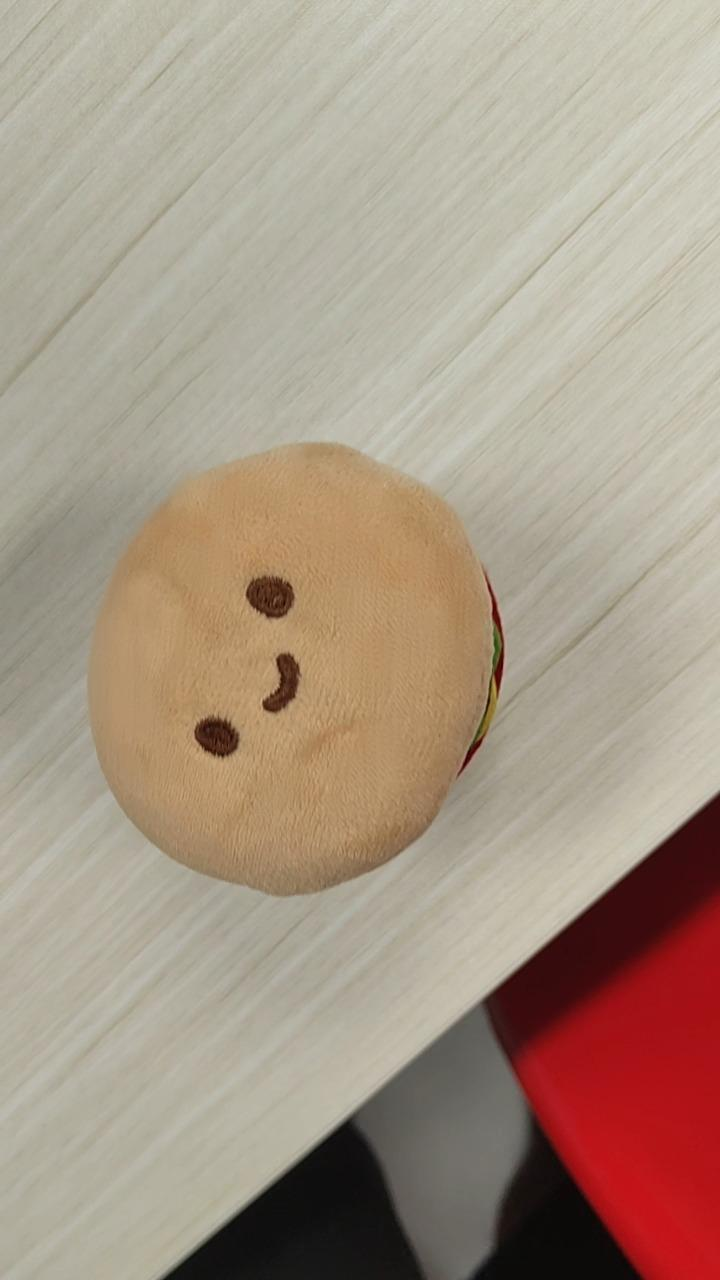hamburger: (85, 439, 506, 898)
